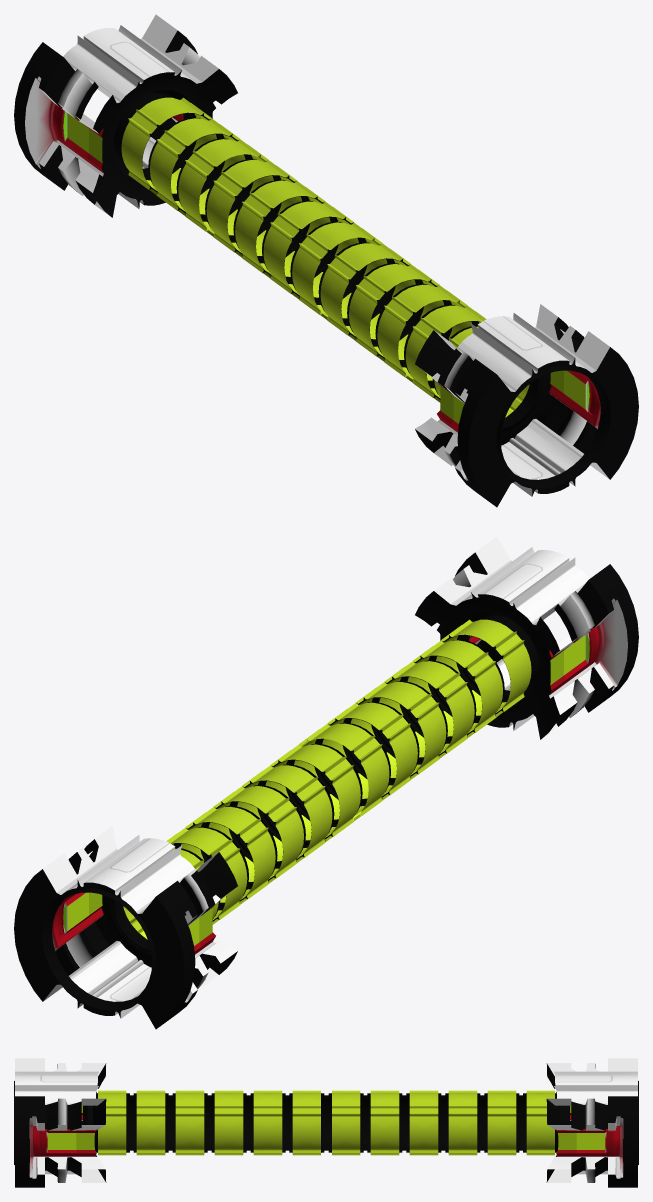
File: part_main-lod0.dae
3 renders of one model, top to bottom at view 1: azimuth 30°, elevation 25°; view 2: azimuth 150°, elevation 25°; view 3: azimuth 270°, elevation 25°, orthographic. The views are drawn at different scales.
Visible parts, largest first — view 1: part_main-lod0Xlod0Xp2genericXgen_p2_hulltextureaged_02, part_main-lod0Xlod0Xp2genericXgen_p2_hullpattern_01, part_main-lod0Xlod0Xp2genericXgen_p2_hulltexture_02_c, part_main-lod0Xlod0Xp2multimatXp2_multimat_01; view 2: part_main-lod0Xlod0Xp2genericXgen_p2_hulltextureaged_02, part_main-lod0Xlod0Xp2genericXgen_p2_hullpattern_01, part_main-lod0Xlod0Xp2genericXgen_p2_hulltexture_02_c, part_main-lod0Xlod0Xp2multimatXp2_multimat_01; view 3: part_main-lod0Xlod0Xp2genericXgen_p2_hulltextureaged_02, part_main-lod0Xlod0Xp2genericXgen_p2_hullpattern_01, part_main-lod0Xlod0Xp2genericXgen_p2_hulltexture_02_c, part_main-lod0Xlod0Xp2multimatXp2_multimat_01.
Part boxes in pixels (x1=…): part_main-lod0Xlod0Xp2genericXgen_p2_hulltextureaged_02: x1=25, y1=25, x2=610, y2=493; part_main-lod0Xlod0Xp2genericXgen_p2_hullpattern_01: x1=14, y1=14, x2=638, y2=507; part_main-lod0Xlod0Xp2genericXgen_p2_hulltexture_02_c: x1=63, y1=28, x2=587, y2=496; part_main-lod0Xlod0Xp2multimatXp2_multimat_01: x1=53, y1=82, x2=599, y2=465; part_main-lod0Xlod0Xp2genericXgen_p2_hulltextureaged_02: x1=42, y1=547, x2=627, y2=1015; part_main-lod0Xlod0Xp2genericXgen_p2_hullpattern_01: x1=14, y1=536, x2=638, y2=1029; part_main-lod0Xlod0Xp2genericXgen_p2_hulltexture_02_c: x1=65, y1=550, x2=589, y2=1018; part_main-lod0Xlod0Xp2multimatXp2_multimat_01: x1=53, y1=604, x2=599, y2=987; part_main-lod0Xlod0Xp2genericXgen_p2_hulltextureaged_02: x1=14, y1=1071, x2=638, y2=1182; part_main-lod0Xlod0Xp2genericXgen_p2_hullpattern_01: x1=15, y1=1058, x2=637, y2=1187; part_main-lod0Xlod0Xp2genericXgen_p2_hulltexture_02_c: x1=15, y1=1075, x2=637, y2=1174; part_main-lod0Xlod0Xp2multimatXp2_multimat_01: x1=34, y1=1064, x2=618, y2=1155.
Size of the model in its own units: 27.74 by 20.69 by 128.
